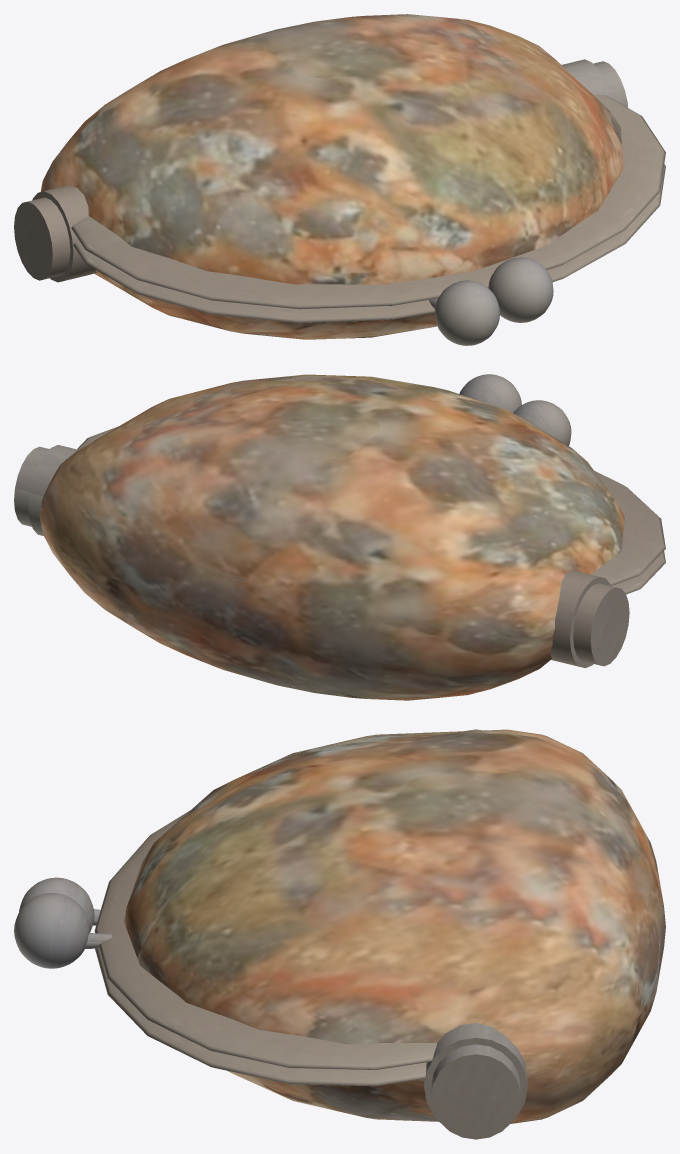
The model's file is Purse redo-less tris.fbx.
The picture shows the model from 3 angles, top to bottom: view 1: azimuth 30°, elevation 25°; view 2: azimuth 150°, elevation 25°; view 3: azimuth 270°, elevation 25°; orthographic projection. The views are drawn at different scales.
Parts seen in each view (by area): view 1: pSphere4, pasted__pasted__pSphere2, pasted__pSphere2, pasted__pCylinder1, pasted__pasted__pSphere3, pasted__pSphere3, pCylinder1; view 2: pSphere4, pasted__pCylinder1, pasted__pasted__pSphere2, pCylinder1, pasted__pSphere3, pasted__pasted__pSphere3, pasted__pSphere2; view 3: pSphere4, pasted__pasted__pSphere2, pasted__pCylinder1, pasted__pSphere2, pasted__pSphere3, pCylinder1, pasted__pasted__pSphere3.
Part boxes in pixels (left/top/right/bottom): pSphere4: left=40, top=14, right=623, bottom=339; pasted__pasted__pSphere2: left=71, top=94, right=665, bottom=309; pasted__pSphere2: left=73, top=164, right=665, bottom=323; pasted__pCylinder1: left=14, top=61, right=627, bottom=280; pasted__pasted__pSphere3: left=434, top=280, right=499, bottom=345; pasted__pSphere3: left=488, top=257, right=553, bottom=322; pCylinder1: left=32, top=59, right=610, bottom=282; pSphere4: left=39, top=374, right=624, bottom=700; pasted__pCylinder1: left=14, top=446, right=629, bottom=666; pasted__pasted__pSphere2: left=77, top=426, right=665, bottom=585; pCylinder1: left=28, top=445, right=610, bottom=668; pasted__pSphere3: left=459, top=374, right=521, bottom=412; pasted__pasted__pSphere3: left=513, top=400, right=571, bottom=445; pasted__pSphere2: left=611, top=551, right=665, bottom=594; pSphere4: left=124, top=729, right=665, bottom=1123; pasted__pasted__pSphere2: left=94, top=811, right=660, bottom=1069; pasted__pCylinder1: left=431, top=729, right=520, bottom=1139; pasted__pSphere2: left=95, top=948, right=426, bottom=1086; pasted__pSphere3: left=14, top=893, right=89, bottom=968; pCylinder1: left=424, top=1023, right=527, bottom=1119; pasted__pasted__pSphere3: left=19, top=877, right=94, bottom=932.
Bounding box in the file's own units: 222 × 84.44 × 188.
